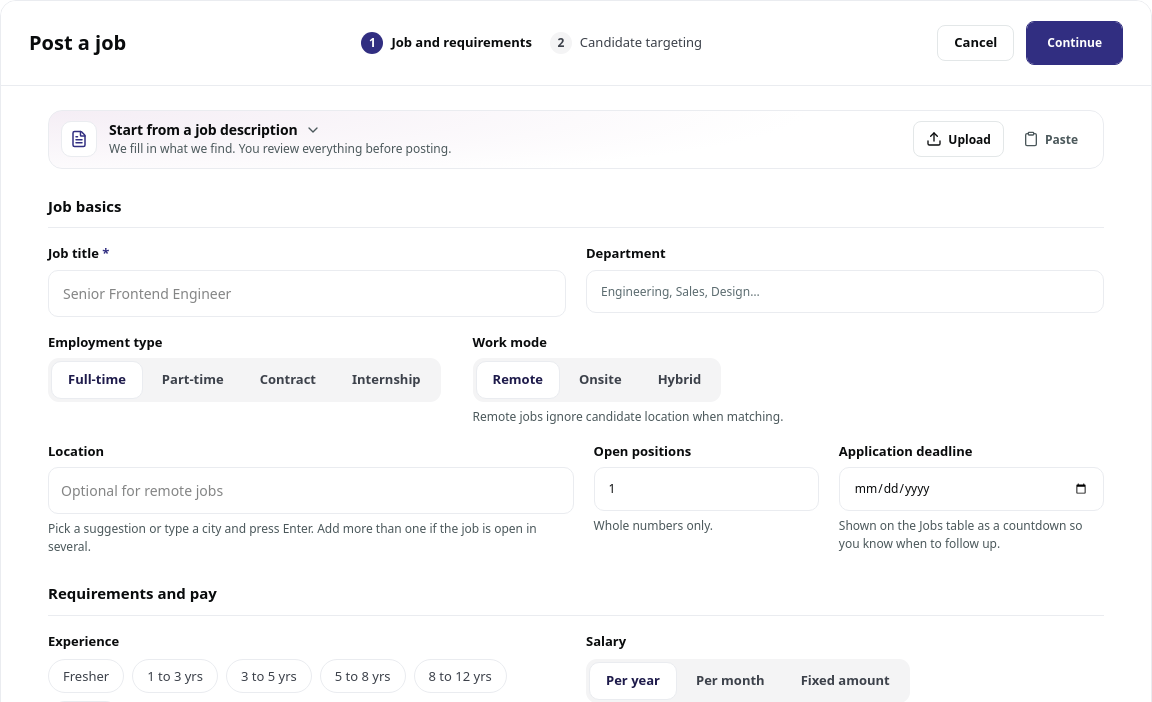
Test: RequirementForm (create) › walks the two steps once the first is valid
Type "Backend Engineer" into the dropdown labelled "Job title *" at (307,294), box [48,270,566,317]
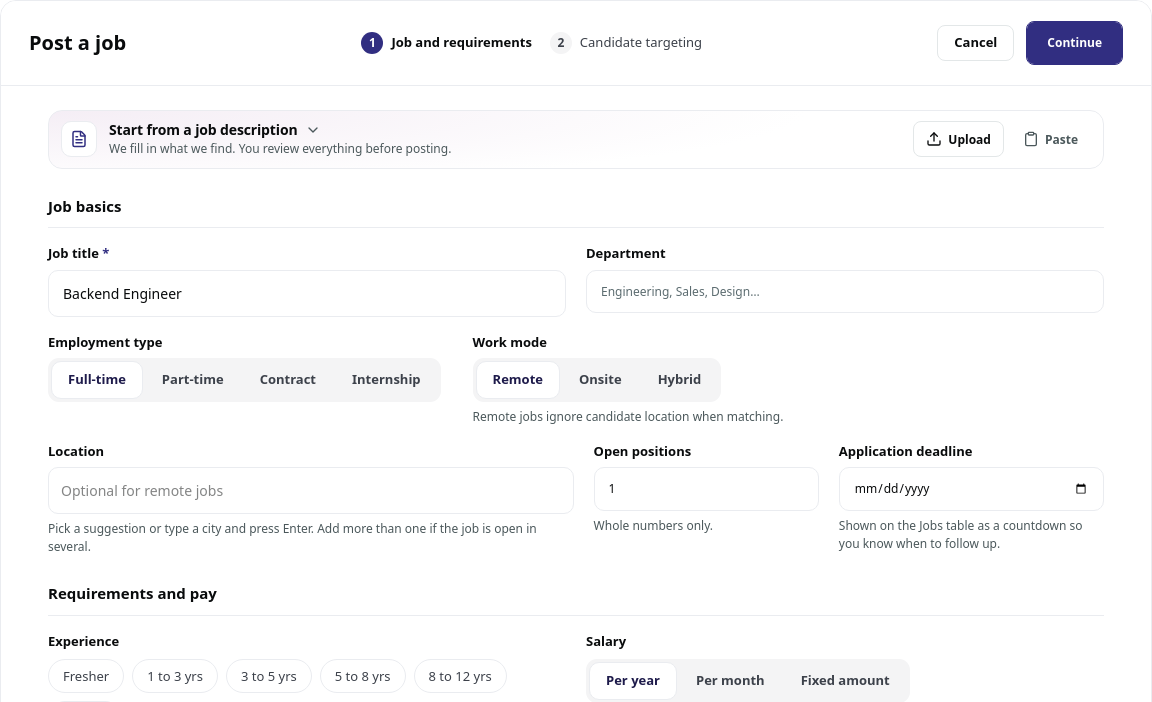
Type "Pune" into the dropdown labelled "Location" at (311,491), box [59,476,563,506]
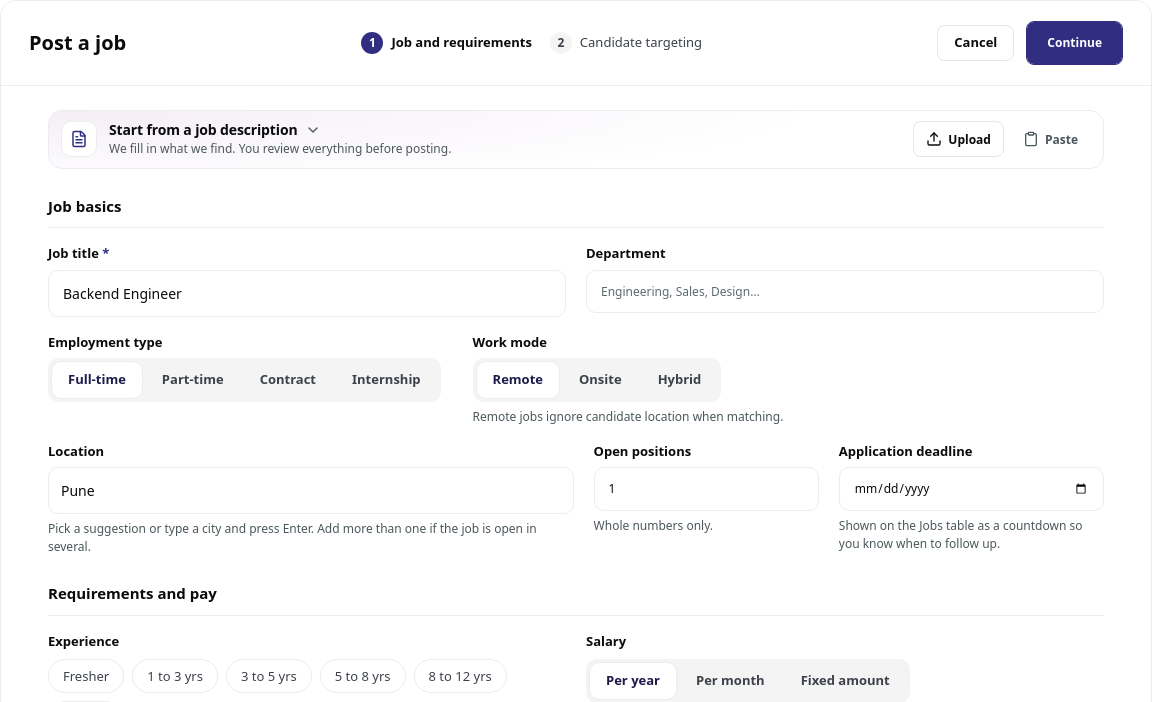
Press Enter in the dropdown labelled "Location", box [59,476,563,506]
(page scrolled)
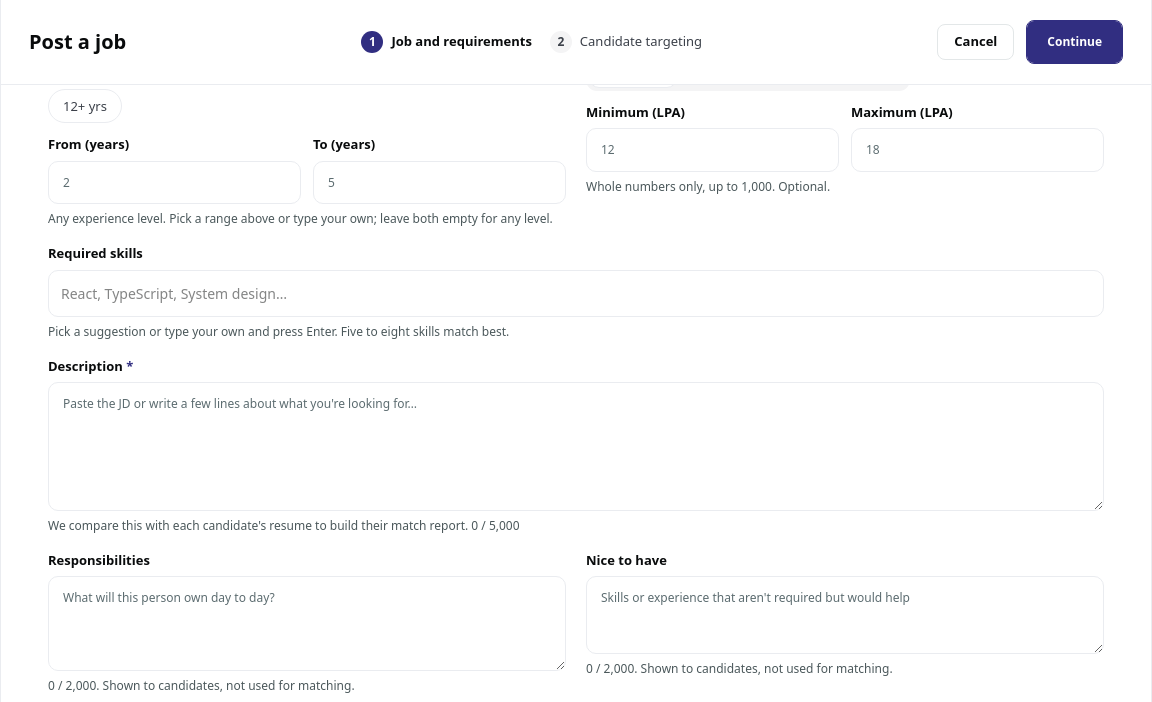
Replace the text in the text box labelled "Description *" with "Own the services behind our hiring platform end to end. You will partner with product and design to ship dependable features for candidates and employers." at (576,446), box [48,382,1104,511]
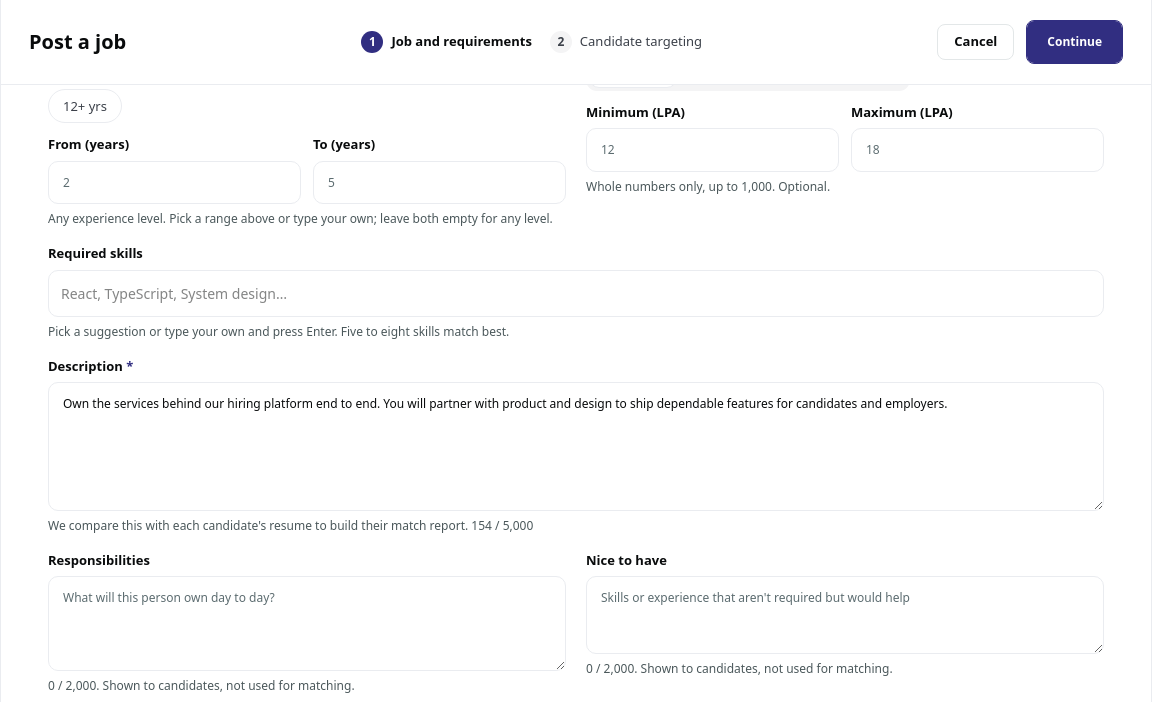
Click the button "Continue" at (1075,42), box [1026,20,1123,64]
(page scrolled)
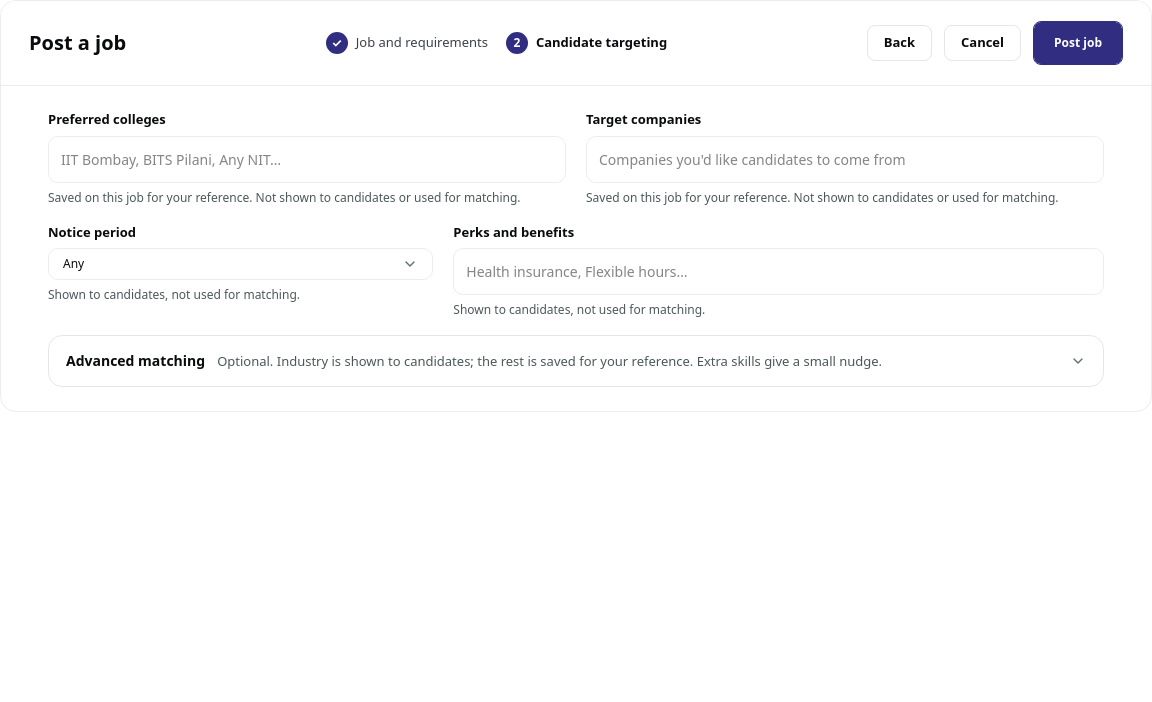
Expected: the button "Post job" is shown, [1033,21,1123,65]
